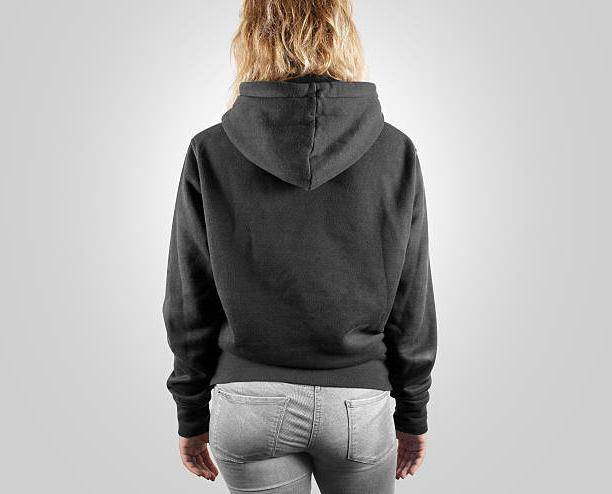sweater: (161, 73, 439, 440)
trousers: (209, 383, 400, 494)
